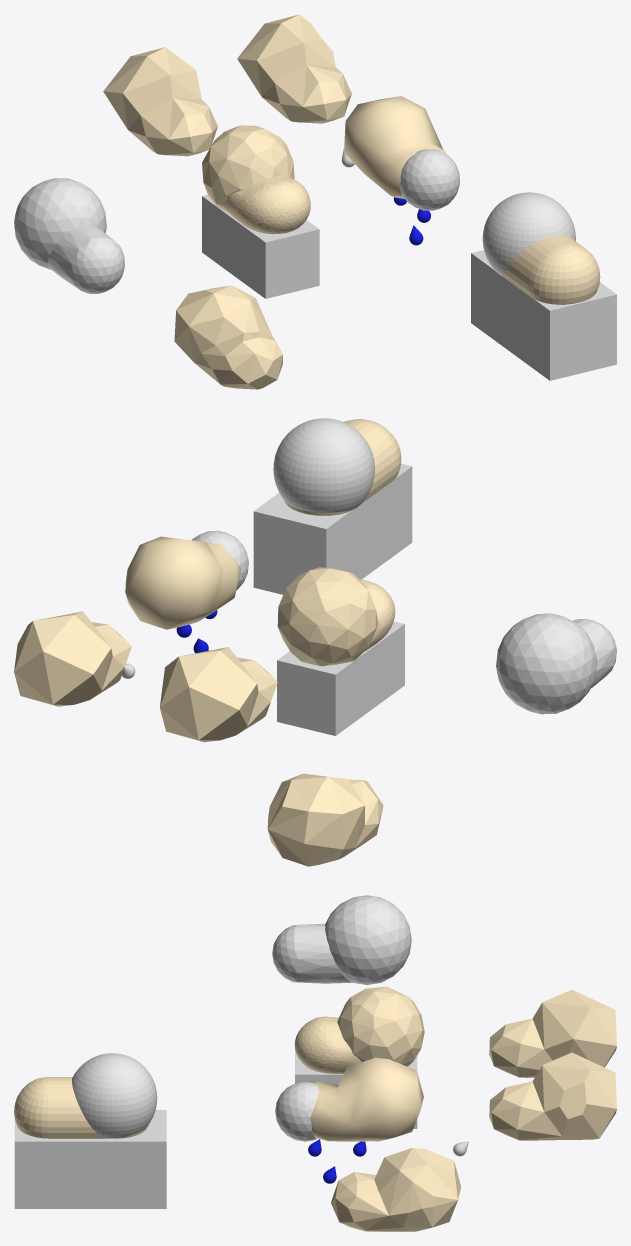
Rendered from cloud.glb.
3 renders of one model, top to bottom at view 1: azimuth 30°, elevation 25°; view 2: azimuth 150°, elevation 25°; view 3: azimuth 270°, elevation 25°, orthographic. The views are drawn at different scales.
Parts seen in each view (by area): view 1: Cube.001, Icosphere.002, Icosphere.006, Icosphere.004, Icosphere.005, Cube, Icosphere.007, Icosphere.001, Sphere.001, Sphere, Icosphere, Icosphere.003; view 2: Cube.001, Icosphere.002, Cube, Icosphere.006, Icosphere.005, Icosphere.004, Icosphere.007, Icosphere.001, Sphere, Sphere.001, Icosphere, Icosphere.003; view 3: Cube.001, Icosphere.005, Icosphere.004, Icosphere.002, Icosphere.007, Icosphere.006, Icosphere.001, Sphere, Sphere.001, Icosphere, Icosphere.003, Cube.
Part boxes in pixels (x1,y1,x2,y2): Cube.001: (471, 250, 616, 380); Icosphere.002: (202, 125, 310, 233); Icosphere.006: (103, 47, 217, 156); Icosphere.004: (174, 285, 282, 389); Icosphere.005: (237, 14, 351, 123); Cube: (202, 194, 319, 298); Icosphere.007: (344, 96, 446, 198); Icosphere.001: (14, 178, 106, 270); Sphere.001: (502, 235, 600, 304); Sphere: (482, 192, 575, 276); Icosphere: (48, 225, 124, 293); Icosphere.003: (399, 149, 459, 210); Cube.001: (253, 463, 412, 594); Icosphere.002: (277, 567, 395, 666); Cube: (277, 621, 404, 735); Icosphere.006: (159, 647, 277, 742); Icosphere.005: (14, 611, 131, 706); Icosphere.004: (267, 773, 383, 866); Icosphere.007: (125, 536, 240, 629); Icosphere.001: (496, 613, 596, 714); Sphere: (273, 418, 374, 512); Sphere.001: (284, 419, 401, 515); Icosphere: (573, 619, 616, 688); Icosphere.003: (192, 530, 248, 590); Cube.001: (14, 1110, 166, 1208); Icosphere.005: (489, 1052, 616, 1140); Icosphere.004: (331, 1148, 460, 1231); Icosphere.002: (294, 986, 424, 1073); Icosphere.007: (310, 1057, 423, 1141); Icosphere.006: (489, 989, 616, 1077); Icosphere.001: (325, 895, 411, 984); Sphere: (72, 1053, 157, 1138); Sphere.001: (14, 1077, 148, 1138); Icosphere: (272, 923, 352, 983); Icosphere.003: (275, 1082, 318, 1141); Cube: (295, 1050, 417, 1128).
Bounding box in the file's own units: 15.48 × 8.6 × 20.12.
